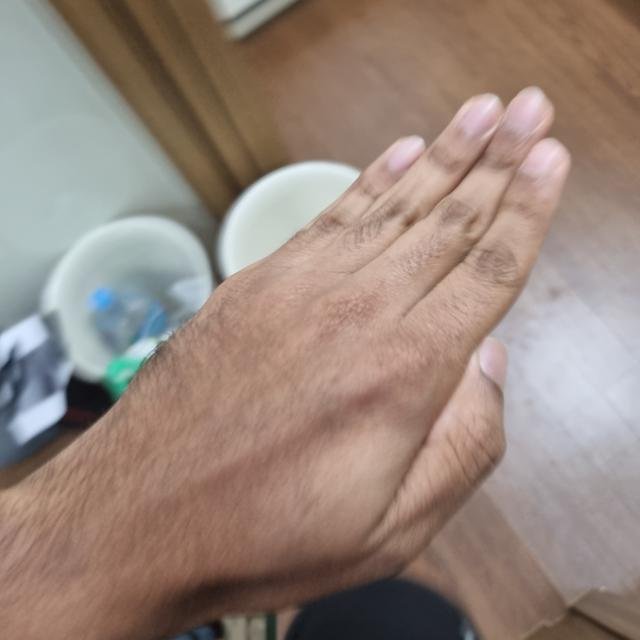Paper: (113, 88, 570, 607)
